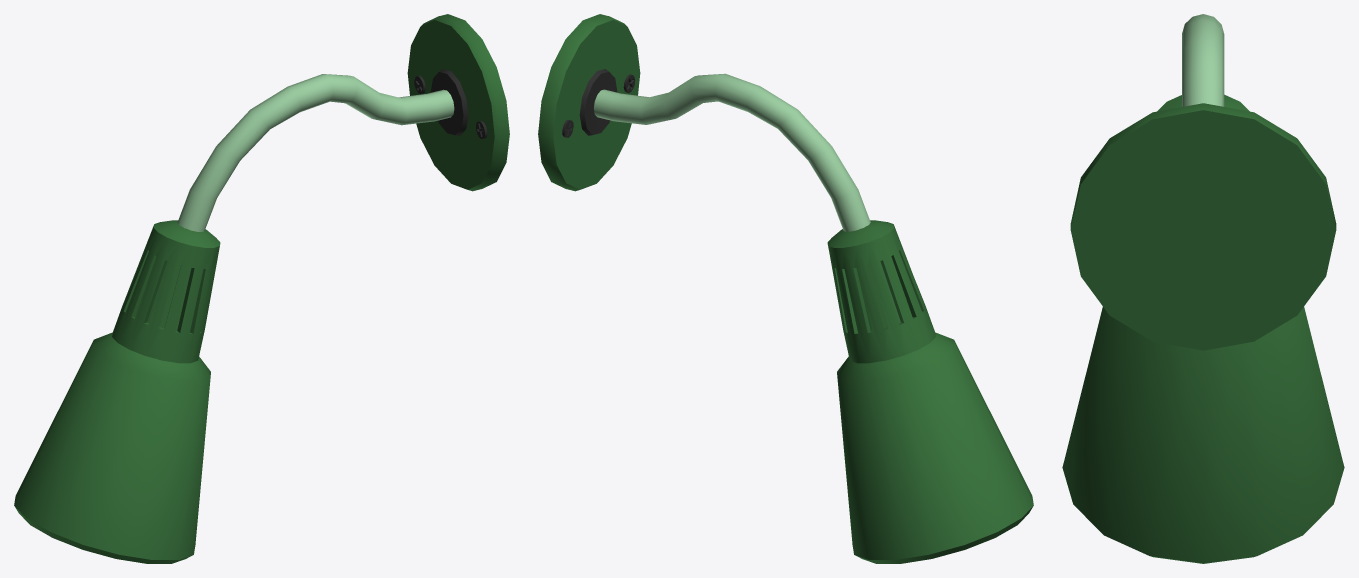
File: KvartWallClampSpotlight.FBX
The picture shows the model from 3 angles, left to right: view 1: azimuth 30°, elevation 25°; view 2: azimuth 150°, elevation 25°; view 3: azimuth 270°, elevation 25°; orthographic projection. The views are drawn at different scales.
Visible parts, largest first — view 1: KvartWallClampSpotlight; view 2: KvartWallClampSpotlight; view 3: KvartWallClampSpotlight.
Part boxes in pixels (x1=…): KvartWallClampSpotlight: x1=14, y1=14, x2=509, y2=563; KvartWallClampSpotlight: x1=538, y1=14, x2=1033, y2=563; KvartWallClampSpotlight: x1=1062, y1=14, x2=1344, y2=563.
Bounding box in the file's own units: 22.64 × 8.5 × 22.05.
